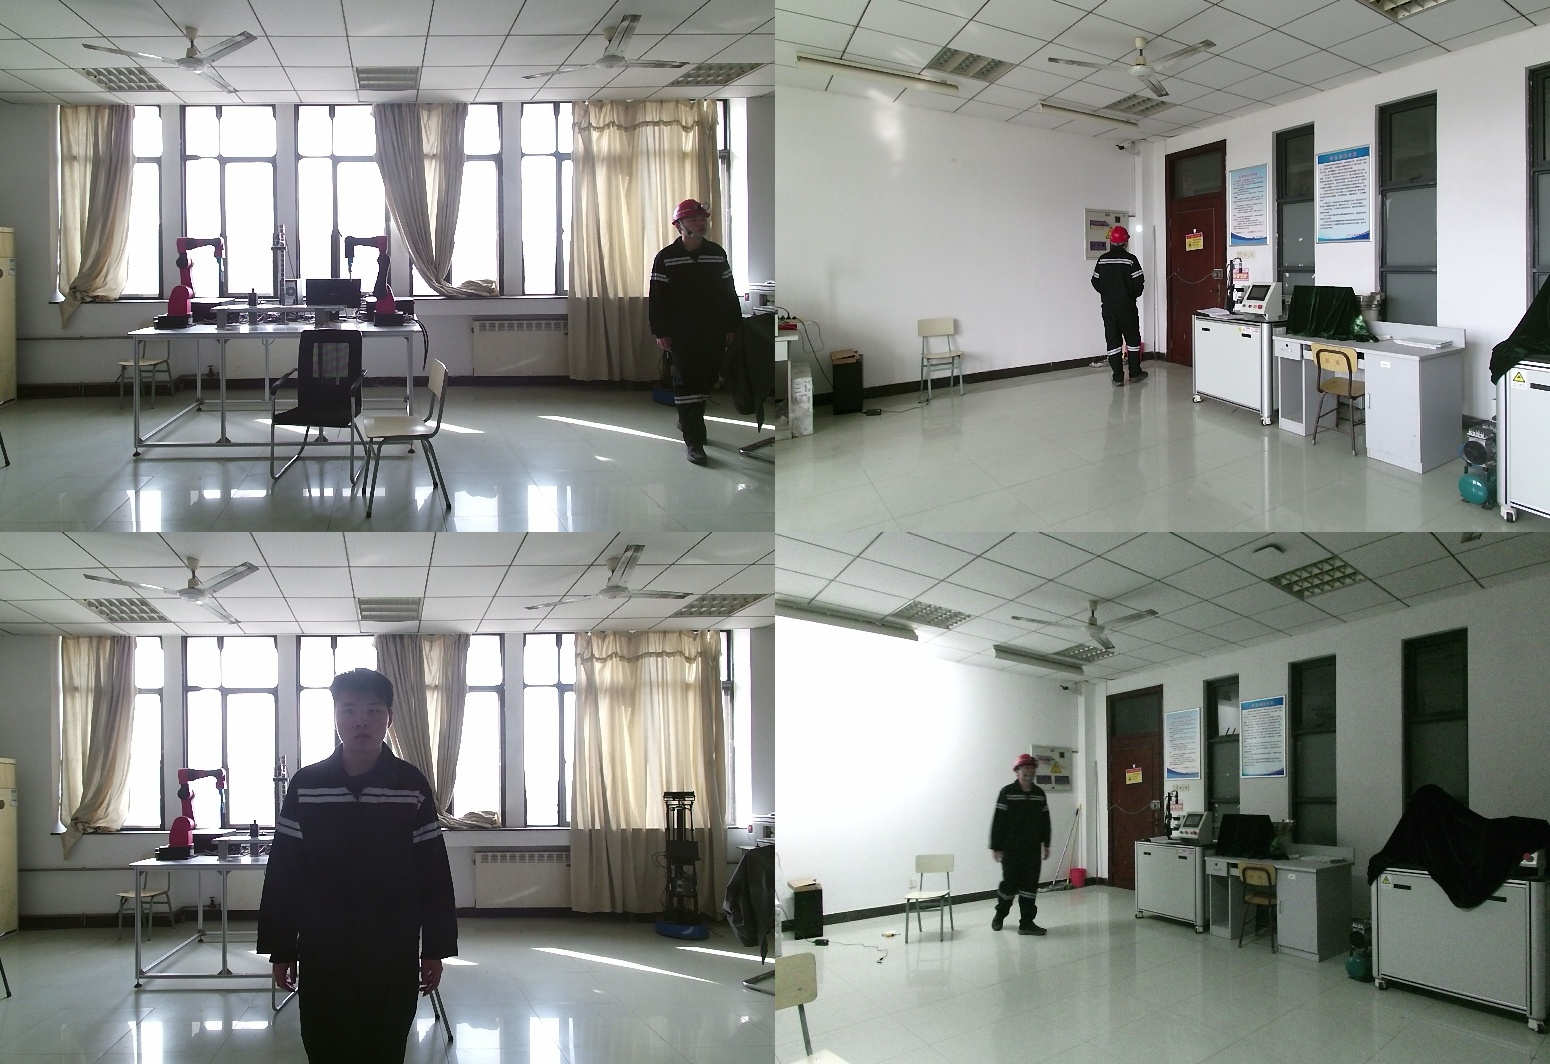person: (267, 667, 476, 1064), (648, 198, 742, 463), (980, 756, 1045, 948), (1089, 227, 1149, 393)
